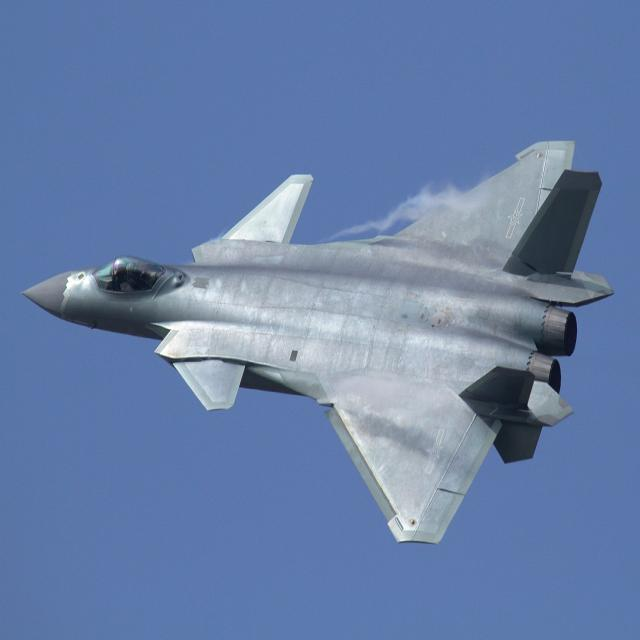MIL_Plane: (18, 139, 614, 544)
